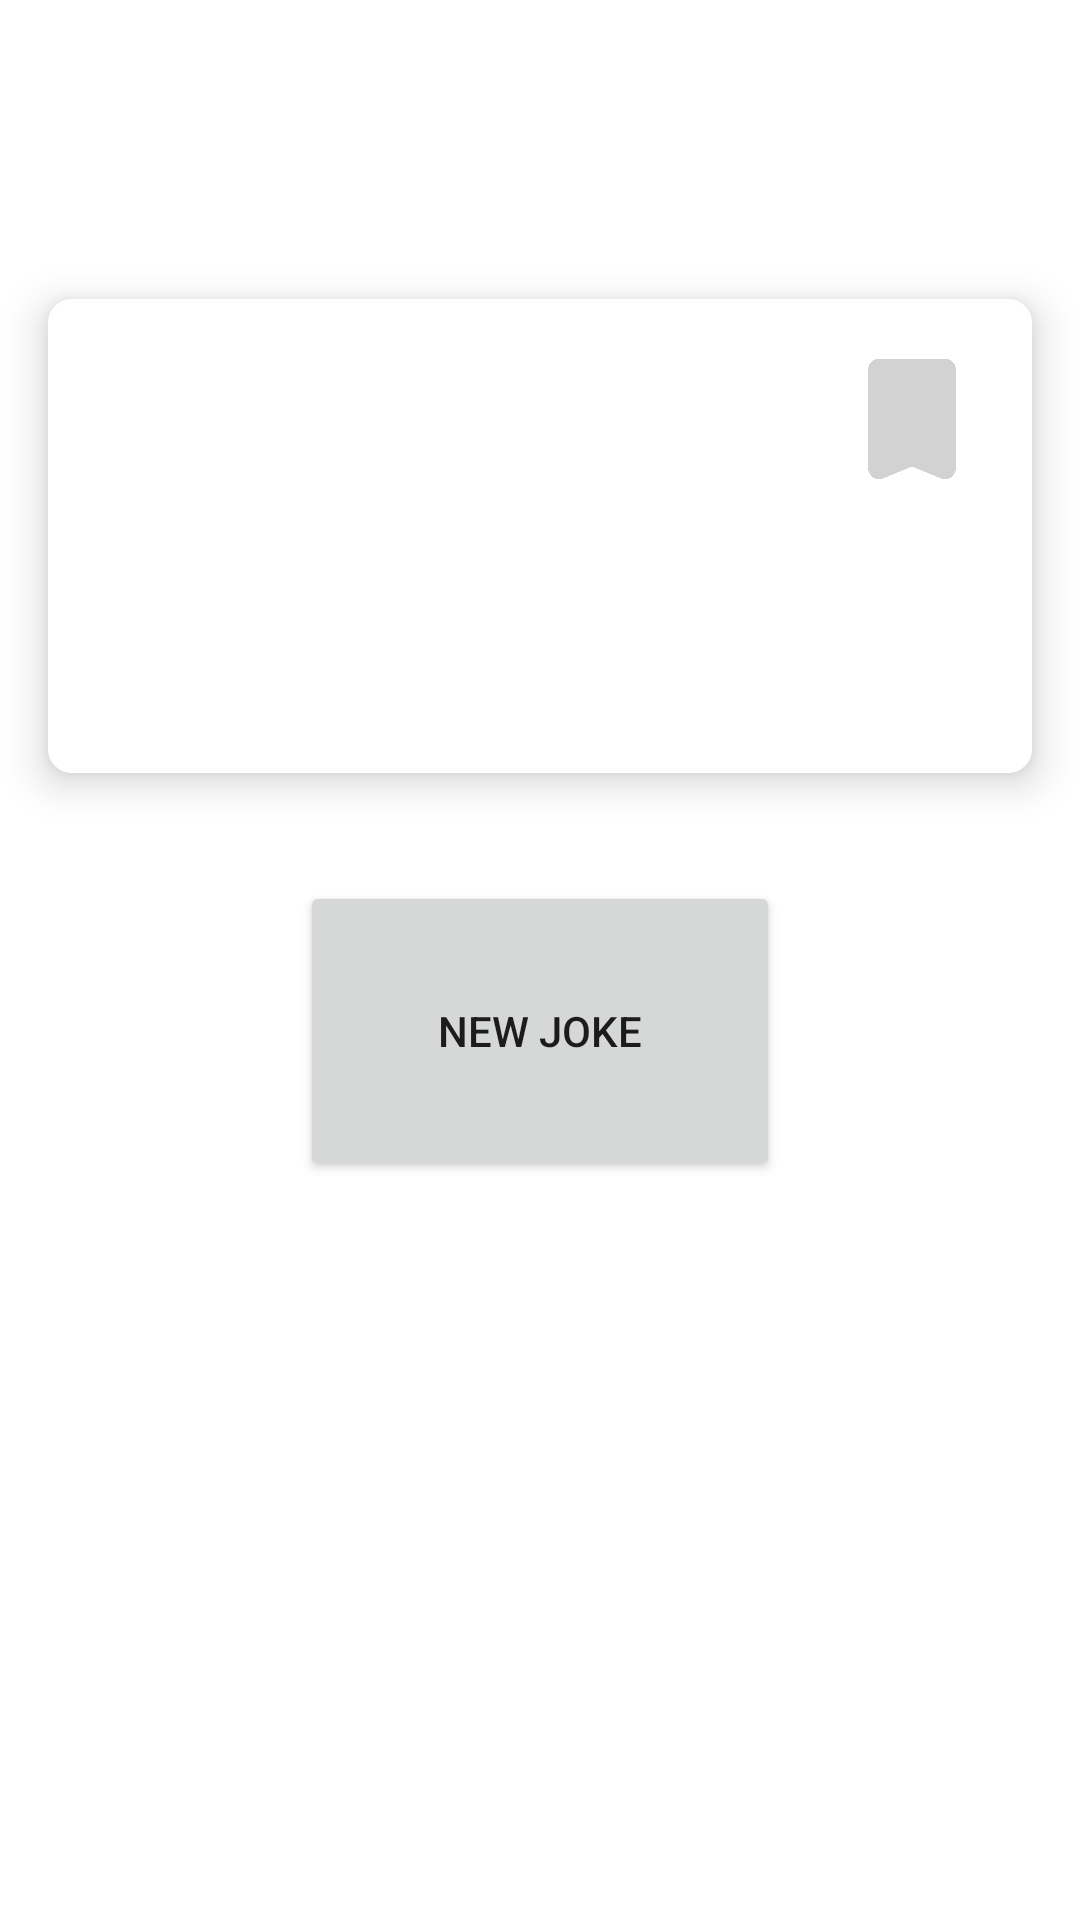

Where icons sit on this 1080w x 1920h app screen, as (x1,y1,x2,y2):
bookmark button: (868,359,956,479)
